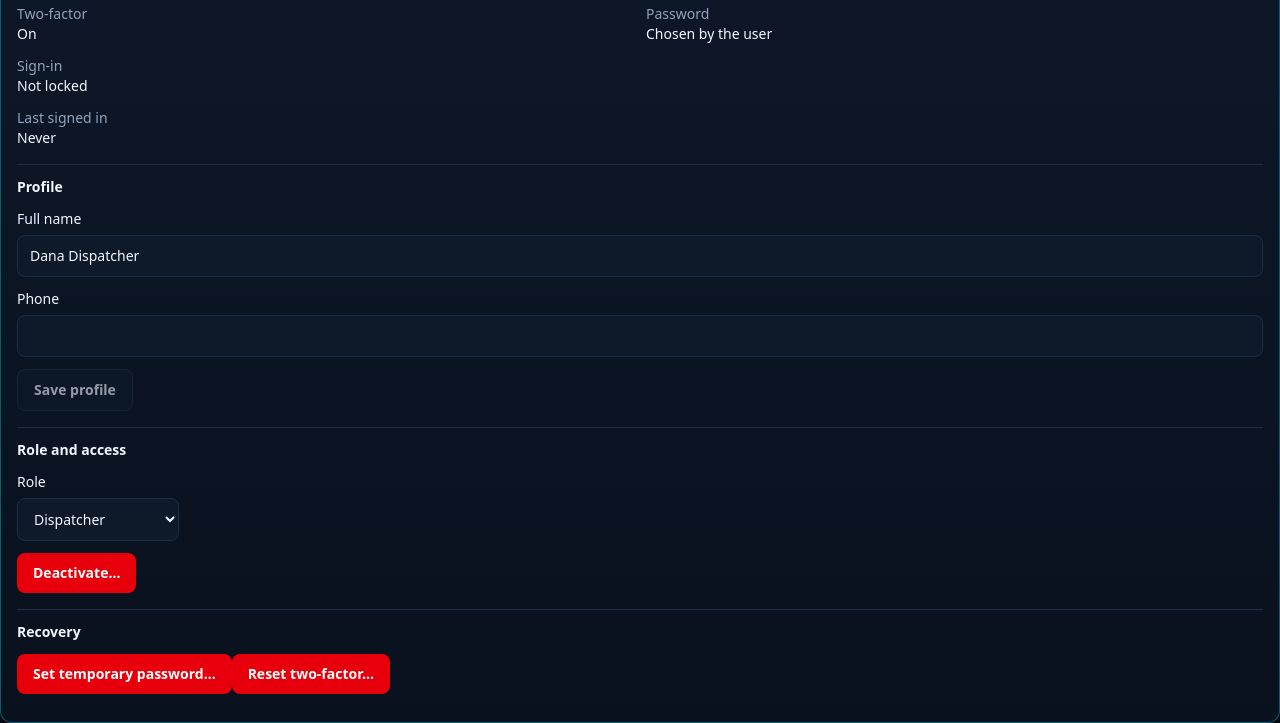
Test: UserDetail › does not show a temporary password the server refused
(page scrolled)
Click the button "Set temporary password…" at (124, 674), box left=17, top=654, right=232, bottom=694
(page scrolled)
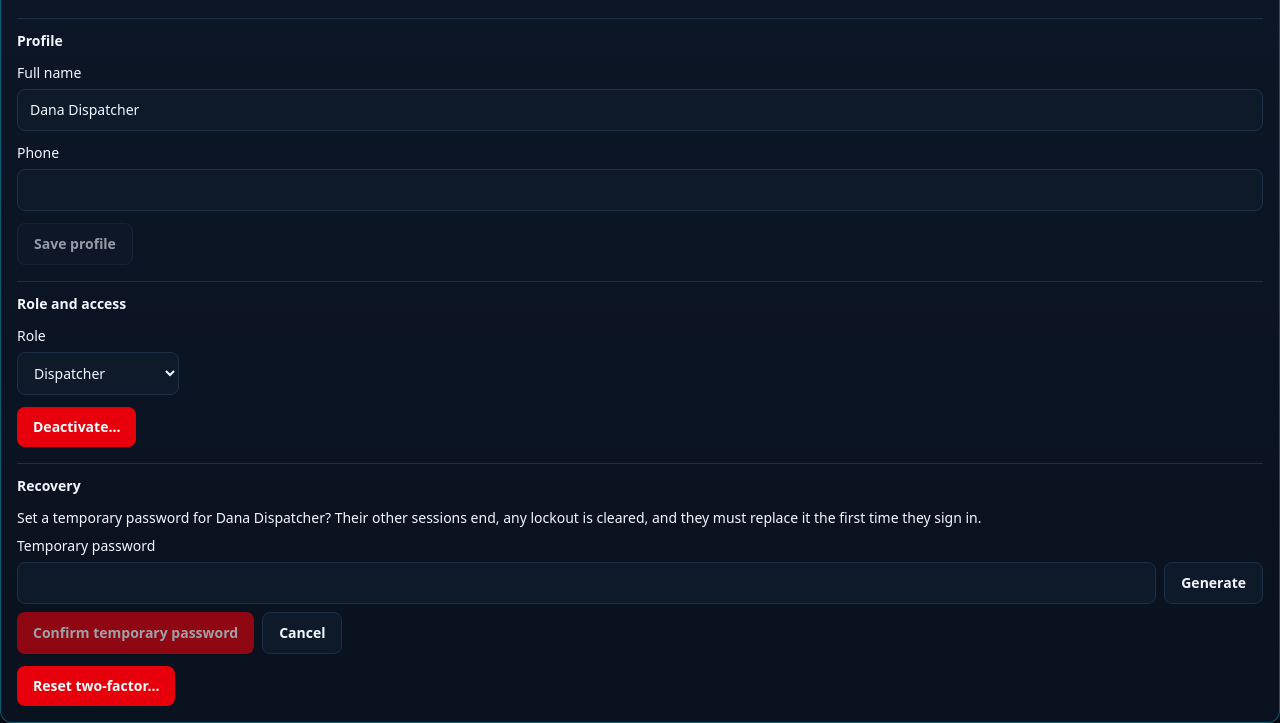
Type "password" into the field labelled "Temporary password Generate" at (587, 583), box left=17, top=562, right=1156, bottom=604
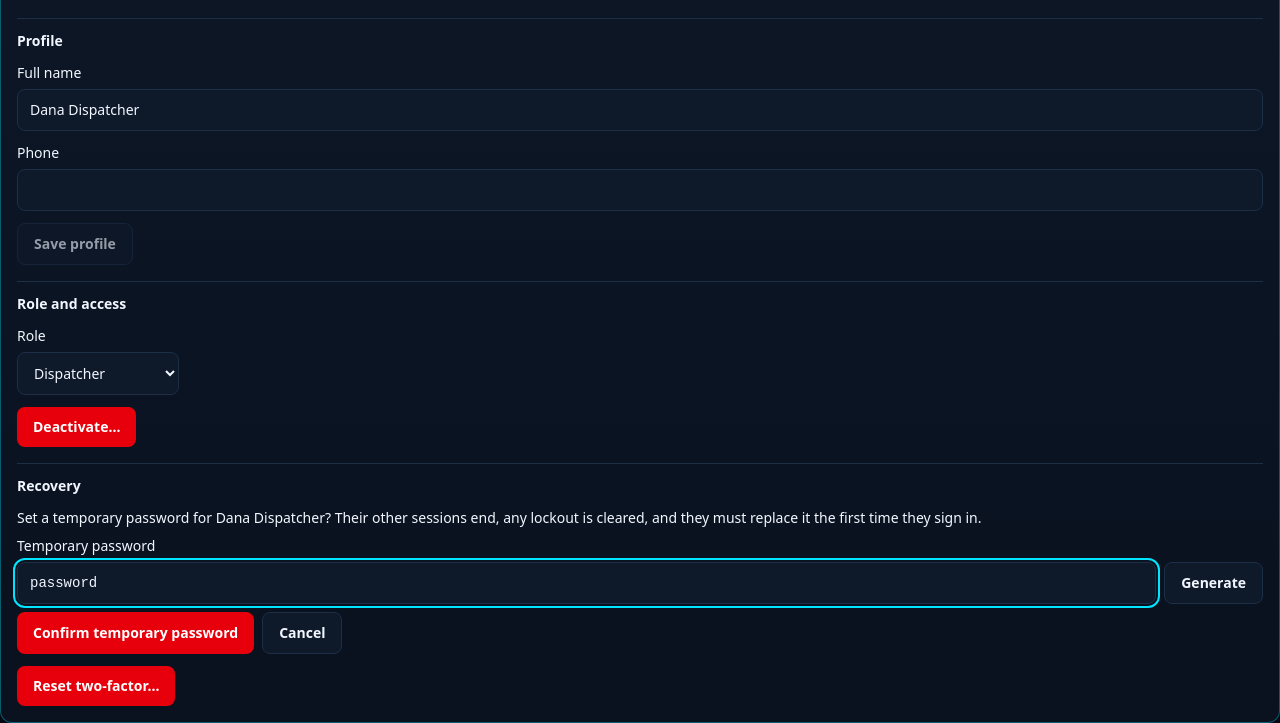
Click the button "Confirm temporary password" at (136, 633), box left=17, top=612, right=254, bottom=654
(page scrolled)
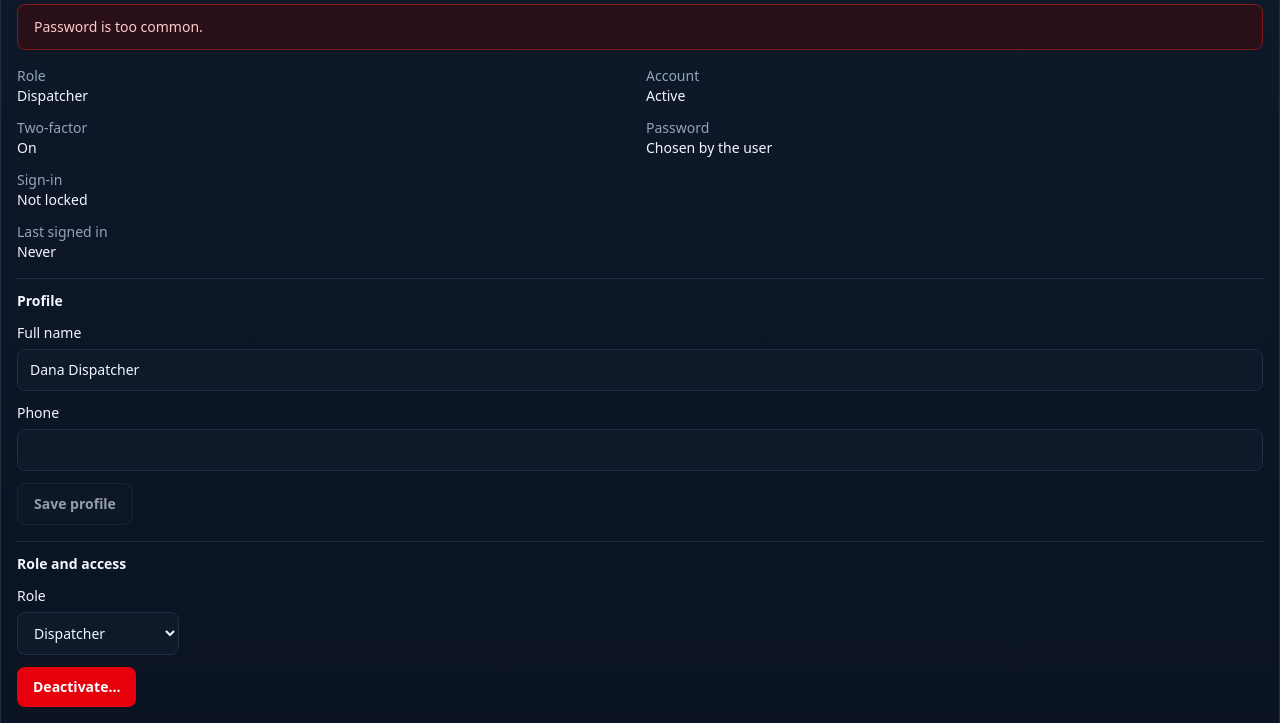
Expected: the field labelled "Temporary password" is not shown
Now the message shows "too common", box left=34, top=17, right=203, bottom=36
